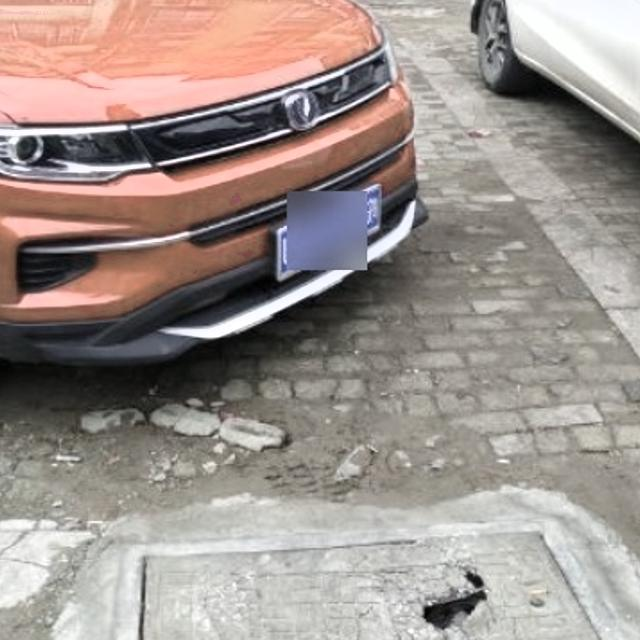broke: (107, 517, 640, 640)
